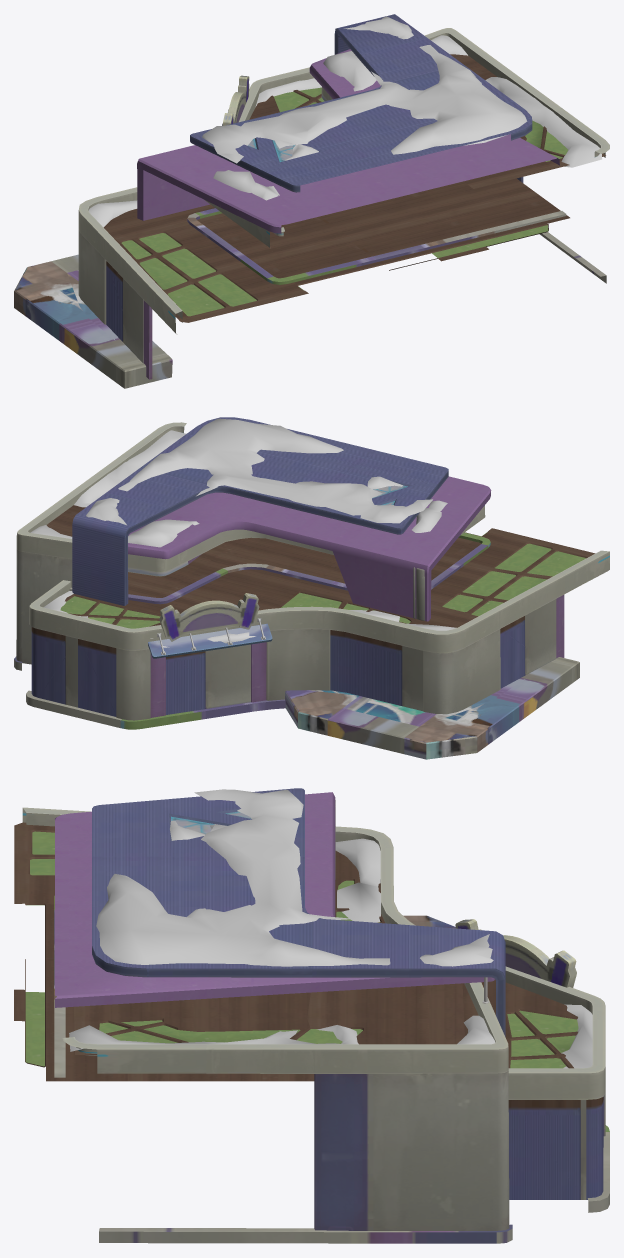
File: pref_sm_city_shop08_snow_lv3.fbx
The picture shows the model from 3 angles, top to bottom: view 1: azimuth 30°, elevation 25°; view 2: azimuth 150°, elevation 25°; view 3: azimuth 270°, elevation 25°; orthographic projection. The views are drawn at different scales.
Visible parts, largest first — view 1: sm_city_shop08_snow_lv3, sm_city_shop08b_snow_lv3; view 2: sm_city_shop08_snow_lv3, sm_city_shop08b_snow_lv3; view 3: sm_city_shop08_snow_lv3, sm_city_shop08b_snow_lv3.
Boxes of the visible parts, left/top/right/bottom form: sm_city_shop08_snow_lv3: left=14, top=14, right=609, bottom=388; sm_city_shop08b_snow_lv3: left=89, top=16, right=602, bottom=227; sm_city_shop08_snow_lv3: left=14, top=417, right=609, bottom=759; sm_city_shop08b_snow_lv3: left=30, top=418, right=456, bottom=647; sm_city_shop08_snow_lv3: left=14, top=788, right=609, bottom=1243; sm_city_shop08b_snow_lv3: left=69, top=789, right=592, bottom=1068.
Size of the model in its own units: 25.7 by 9.82 by 21.21.
